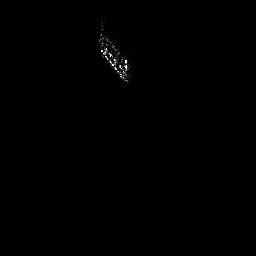ship: (98, 23, 131, 86)
